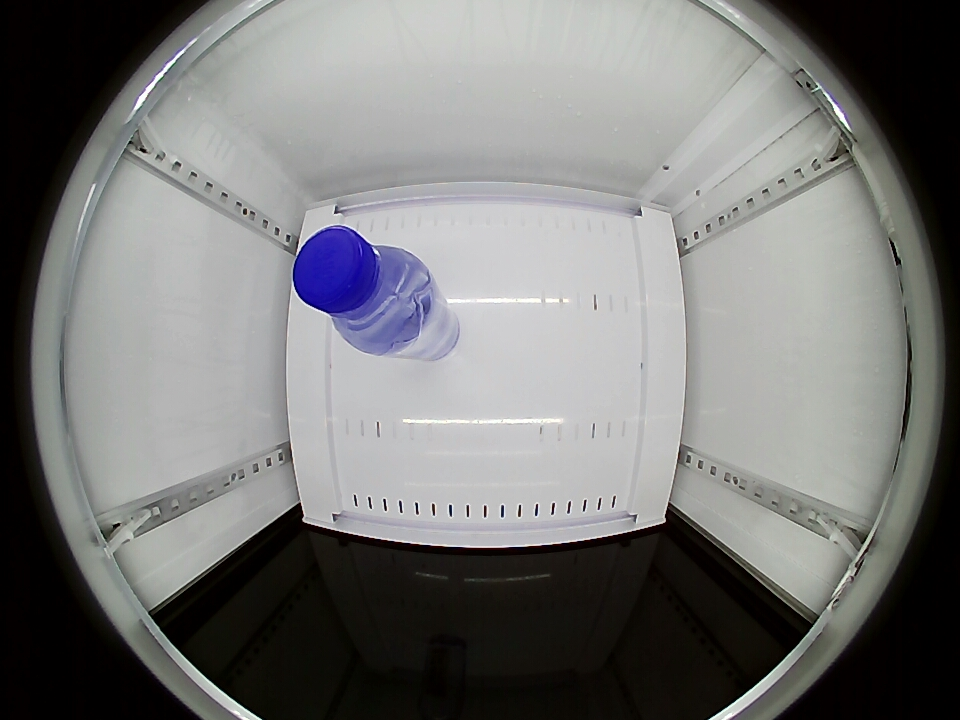aerbeisi: (293, 225, 429, 351)
